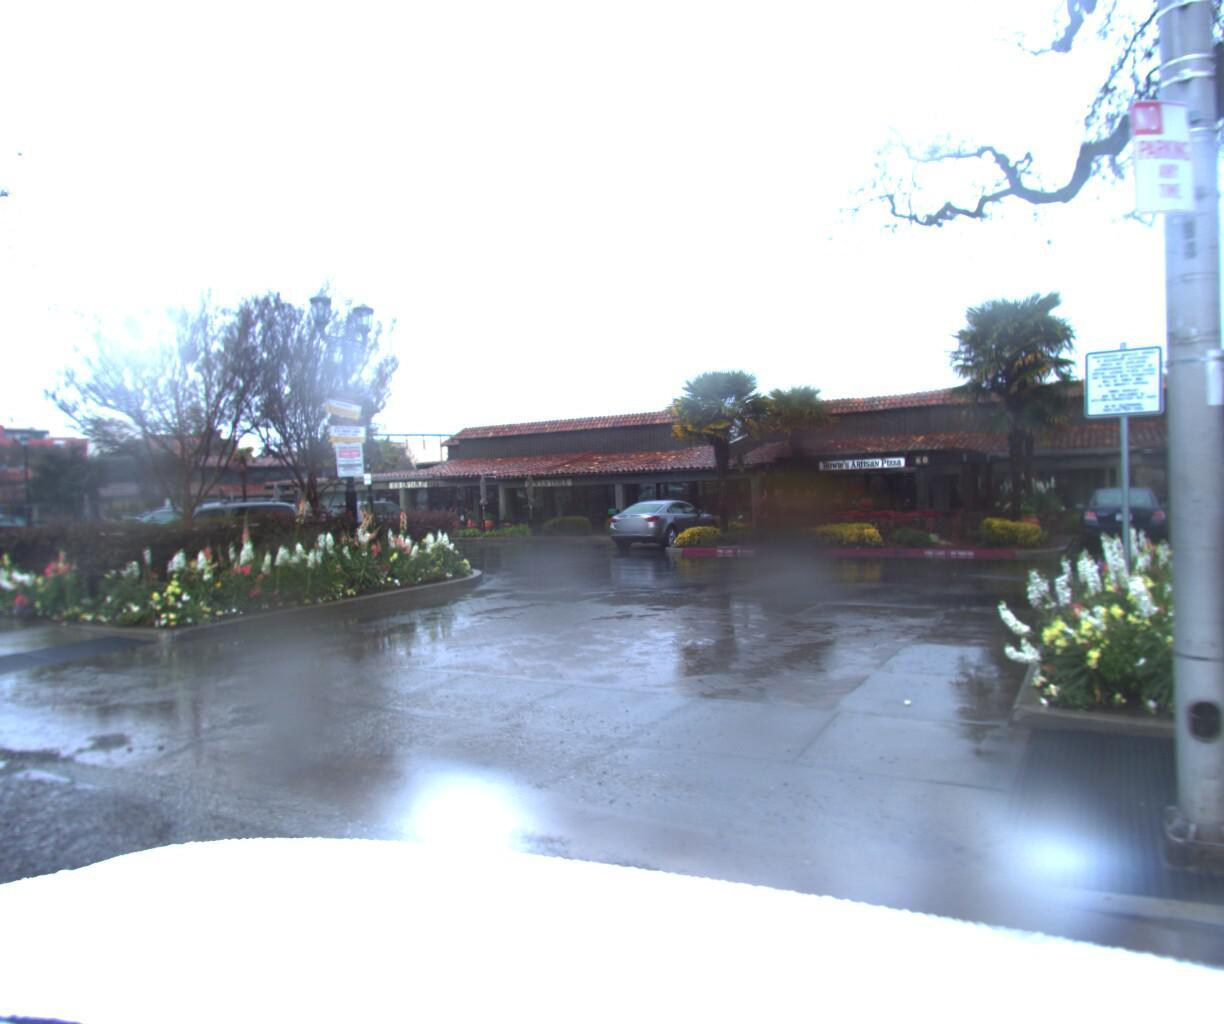car: (62, 493, 324, 607)
